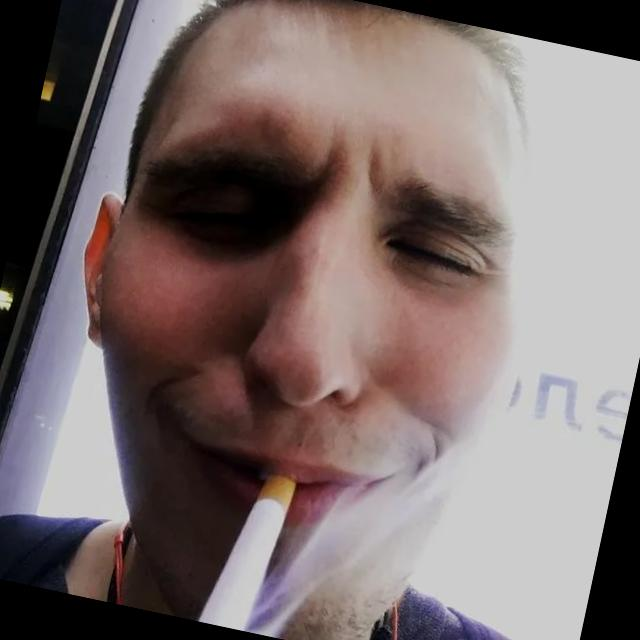smoke: (189, 459, 300, 636)
